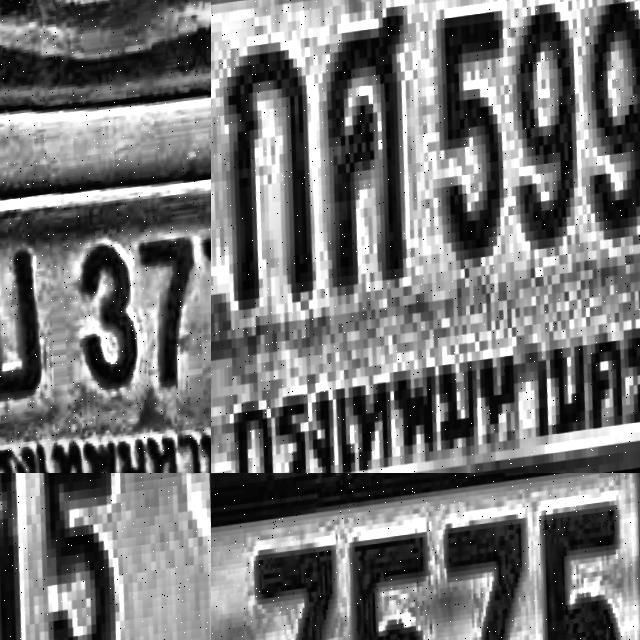license-plate: (211, 0, 640, 473), (0, 72, 211, 473), (211, 473, 640, 640), (0, 473, 211, 640)
